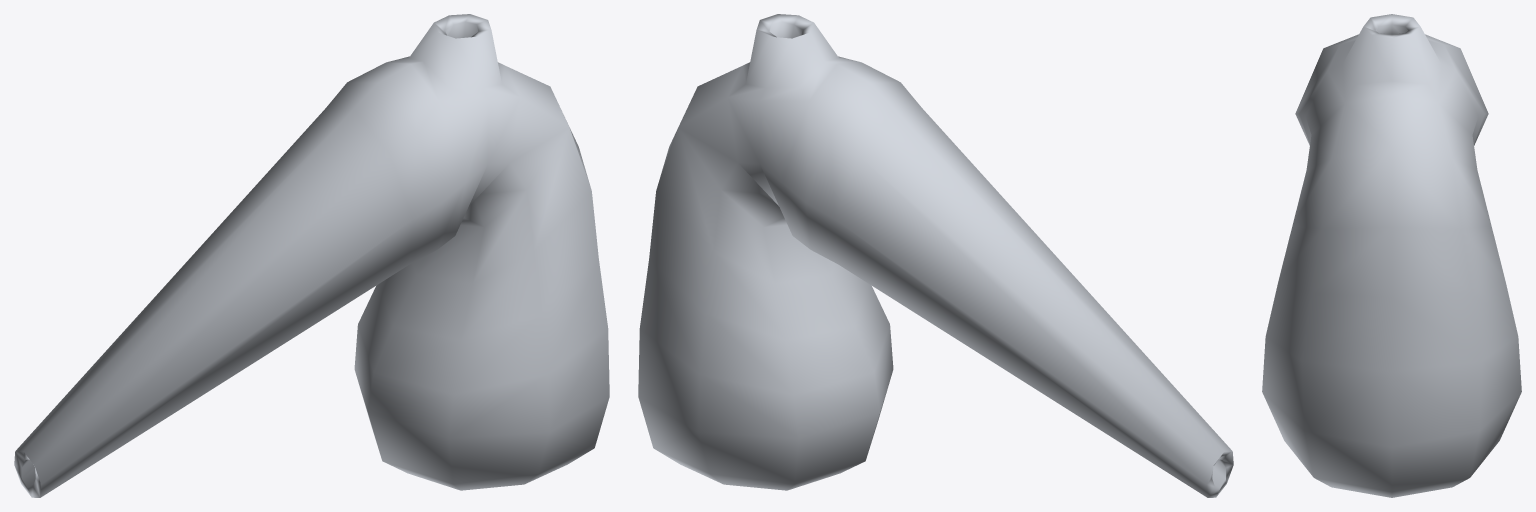
The model's file is bottle_glassware_retort_flask_small.glb.
3 renders of one model, left to right at view 1: azimuth 30°, elevation 25°; view 2: azimuth 150°, elevation 25°; view 3: azimuth 270°, elevation 25°, orthographic.
Parts seen in each view (by area): view 1: bottle_glassware_retort_flask_small; view 2: bottle_glassware_retort_flask_small; view 3: bottle_glassware_retort_flask_small.
Boxes of the visible parts, x1,y1,x2,y2 form: bottle_glassware_retort_flask_small: (14,14,609,497); bottle_glassware_retort_flask_small: (638,14,1233,497); bottle_glassware_retort_flask_small: (1262,14,1521,497).
Size of the model in its own units: 19.98 by 14.88 by 7.96.
Materials: 1 (1 with a texture image).
